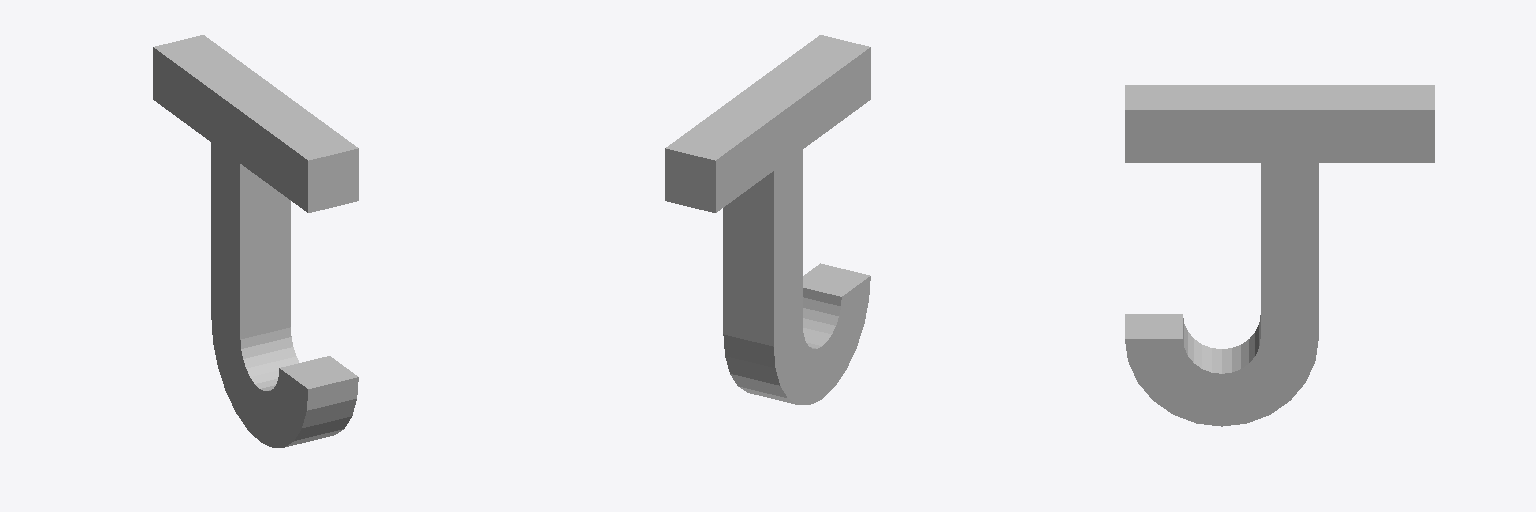
File: LetterJ.obj
The picture shows the model from 3 angles: view 1: azimuth 30°, elevation 25°; view 2: azimuth 150°, elevation 25°; view 3: azimuth 270°, elevation 25°; orthographic projection.
Visible parts, largest first — view 1: 000_Merged_Objects; view 2: 000_Merged_Objects; view 3: 000_Merged_Objects.
Part boxes in pixels (left/top/right/bottom): 000_Merged_Objects: left=153, top=35, right=358, bottom=447; 000_Merged_Objects: left=665, top=35, right=870, bottom=404; 000_Merged_Objects: left=1125, top=85, right=1434, bottom=426.
Bounding box in the file's own units: 150 × 900 × 800.